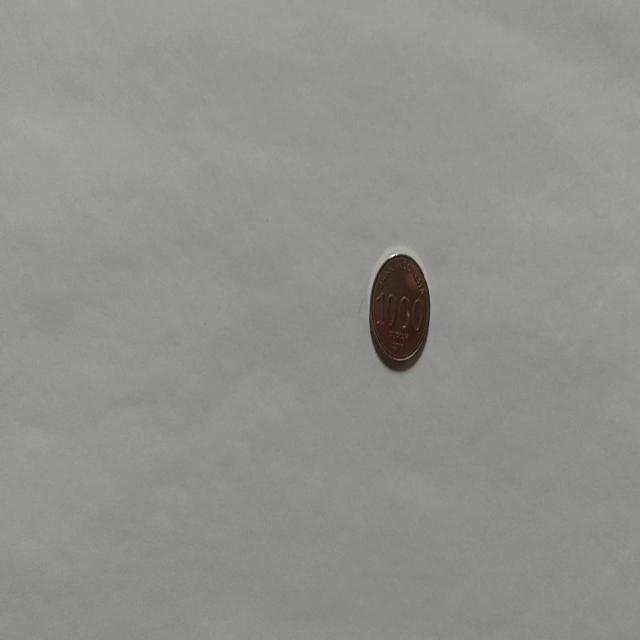seribu rupiah koin: (368, 249, 430, 370)
